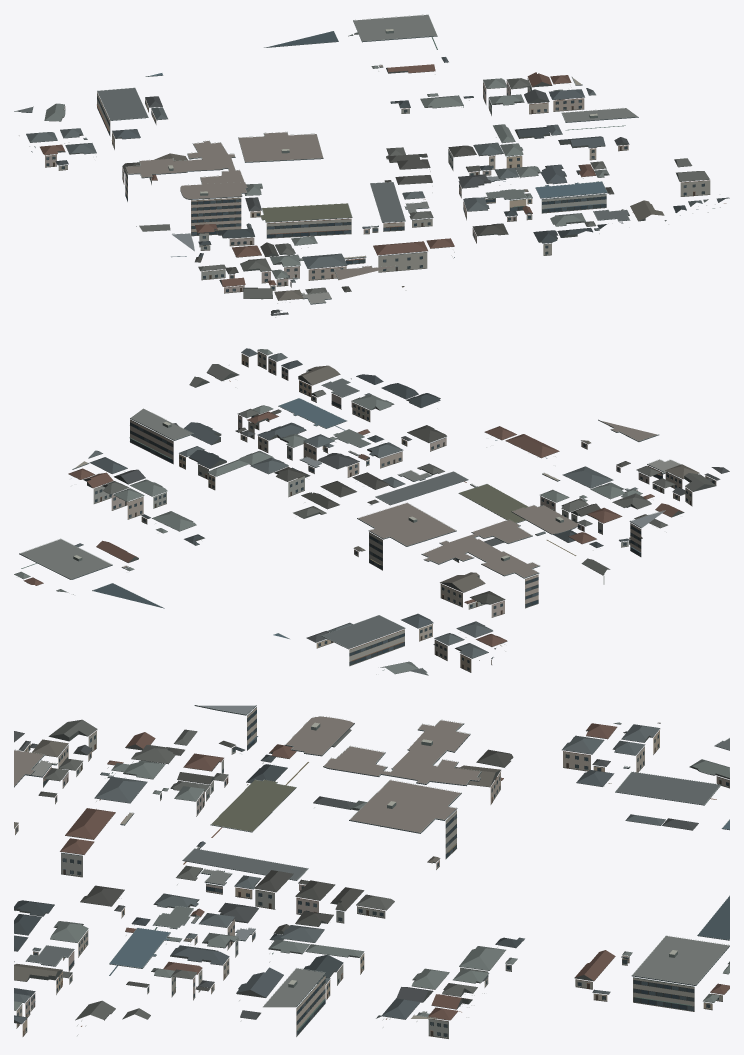
The picture shows the model from 3 angles, top to bottom: view 1: azimuth 30°, elevation 25°; view 2: azimuth 150°, elevation 25°; view 3: azimuth 270°, elevation 25°; orthographic projection. The views are drawn at different scales.
Visible parts, largest first — view 1: r3-c6; view 2: r3-c6; view 3: r3-c6.
Part boxes in pixels (<box>): r3-c6: <box>14,14,729,317</box>; r3-c6: <box>14,348,729,675</box>; r3-c6: <box>14,705,729,1038</box>.
Size of the model in its own units: 250 by 20.2 by 250.
